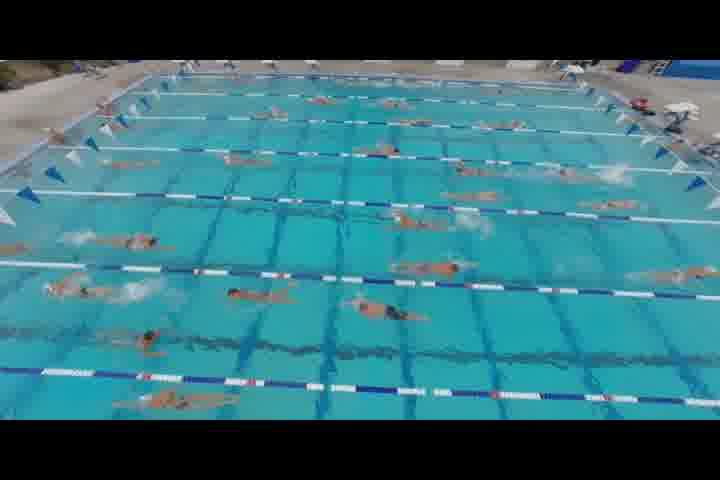human: (114, 388, 238, 410), (347, 298, 429, 324), (113, 330, 169, 358), (222, 287, 294, 308)
